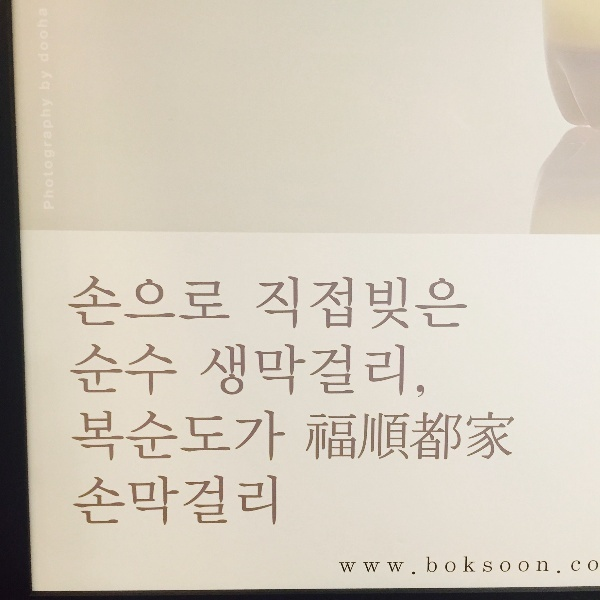text: (209, 342, 224, 404), (225, 342, 240, 404), (241, 342, 256, 404), (257, 342, 272, 404), (273, 342, 288, 404), (289, 342, 304, 404), (305, 342, 320, 404), (321, 342, 336, 404), (337, 342, 352, 404), (353, 342, 368, 404), (369, 342, 384, 404), (385, 342, 400, 404), (401, 342, 416, 404), (273, 410, 289, 465), (81, 341, 96, 399), (97, 341, 112, 399), (113, 341, 128, 399), (129, 341, 144, 399), (145, 341, 160, 399), (161, 341, 176, 399), (81, 273, 96, 331), (97, 273, 112, 331), (113, 273, 128, 331), (129, 273, 144, 331), (145, 273, 160, 331), (161, 273, 176, 331), (177, 273, 192, 331), (193, 273, 208, 331), (209, 273, 224, 331), (81, 475, 96, 531), (97, 475, 112, 531), (113, 475, 128, 531), (129, 475, 144, 531), (145, 475, 160, 531), (161, 475, 176, 531), (177, 475, 192, 531), (193, 475, 208, 531), (209, 475, 224, 531), (225, 475, 240, 531), (241, 475, 256, 531), (257, 475, 272, 531), (257, 276, 272, 332), (273, 276, 288, 332), (289, 276, 304, 332), (305, 276, 320, 332), (321, 276, 336, 332), (337, 276, 352, 332), (353, 276, 368, 332), (369, 276, 384, 332), (385, 276, 400, 332), (401, 276, 416, 332), (417, 276, 432, 332), (433, 276, 448, 332), (449, 276, 464, 332), (81, 410, 96, 465), (97, 410, 112, 465), (113, 410, 128, 465), (129, 410, 144, 465), (145, 410, 160, 465), (161, 410, 176, 465), (177, 410, 192, 465), (193, 410, 208, 465), (209, 410, 224, 465), (225, 410, 240, 465), (241, 410, 256, 465), (257, 410, 272, 465), (321, 412, 336, 465), (337, 412, 352, 465), (353, 412, 368, 465), (369, 412, 384, 465), (385, 412, 400, 465), (401, 412, 416, 465), (417, 412, 432, 465), (433, 412, 448, 465), (449, 412, 464, 465), (465, 412, 480, 465), (481, 412, 496, 465), (497, 412, 512, 465), (306, 412, 320, 465), (417, 342, 427, 404), (70, 410, 80, 465), (225, 273, 234, 331), (72, 341, 80, 399), (73, 273, 80, 331), (273, 475, 279, 531), (75, 475, 80, 531), (465, 276, 470, 332), (353, 559, 368, 577), (369, 559, 384, 577), (385, 559, 400, 577), (401, 559, 416, 577), (417, 559, 432, 577), (433, 559, 448, 577), (449, 559, 464, 577), (465, 559, 480, 577), (481, 559, 496, 577), (497, 559, 512, 577), (513, 559, 528, 577), (529, 559, 544, 577), (545, 559, 560, 577), (561, 559, 576, 577), (577, 559, 592, 577), (338, 559, 352, 577), (204, 342, 208, 404), (177, 341, 179, 399), (593, 559, 599, 577), (513, 412, 515, 465)
